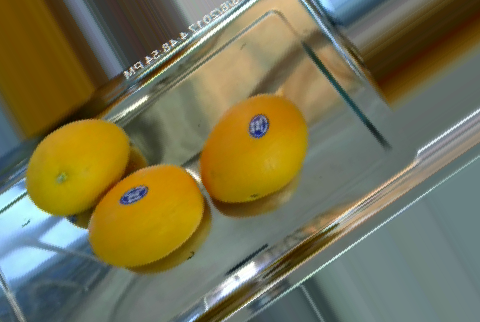Orange: (88, 162, 204, 268), (199, 94, 310, 202), (25, 118, 130, 216)
